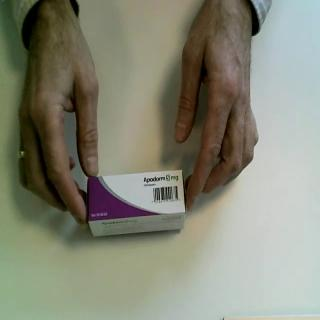apodonorm5mg: (87, 168, 189, 240)
